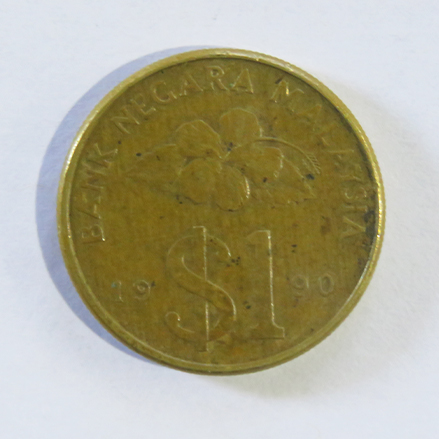1r: (53, 44, 390, 380)
